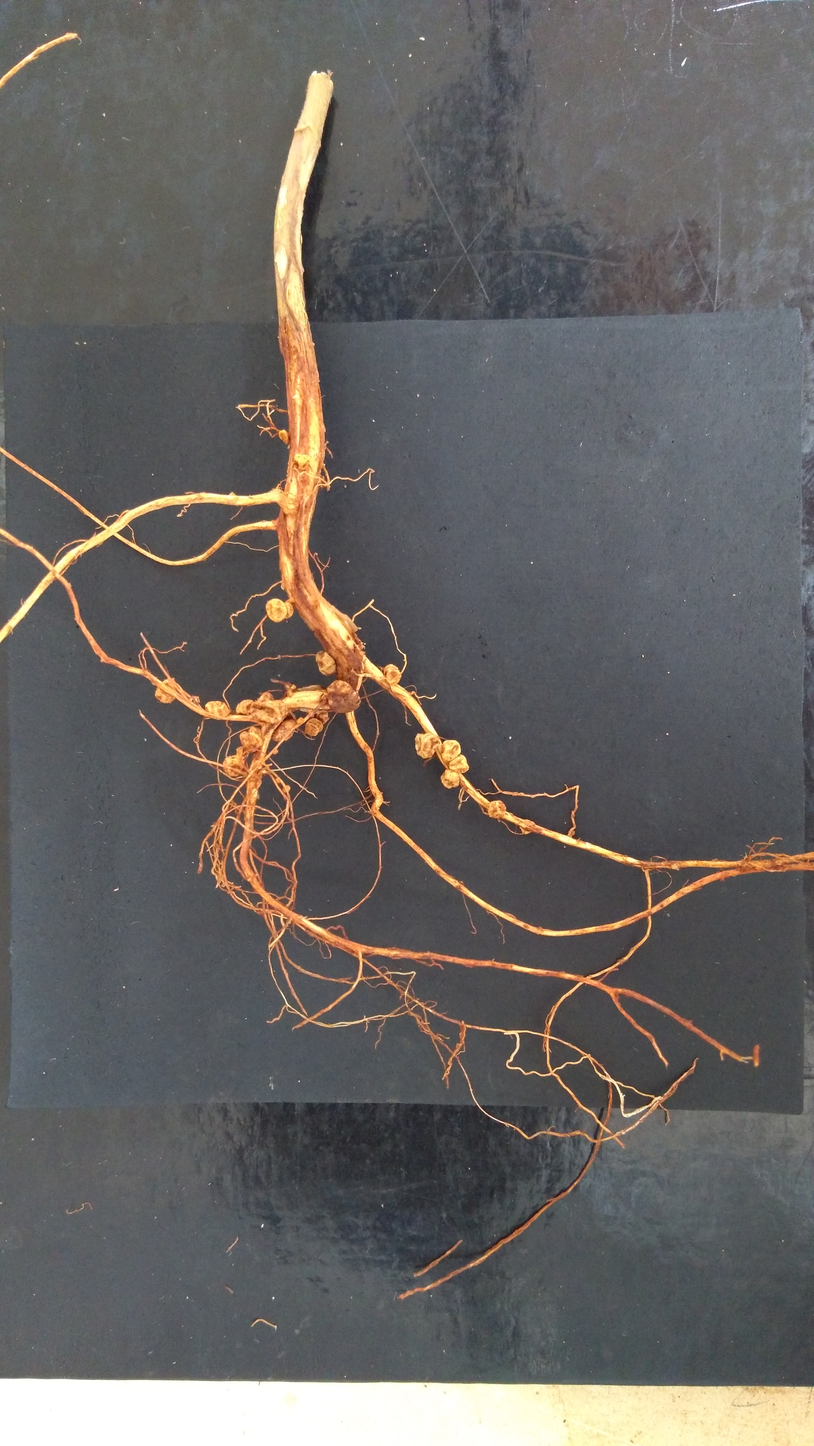nodule: (327, 680, 361, 712), (297, 684, 326, 713), (256, 700, 283, 724), (415, 733, 440, 758), (272, 719, 295, 742), (239, 731, 263, 753), (223, 755, 247, 777), (155, 679, 177, 703), (316, 650, 336, 676), (266, 598, 287, 622), (205, 701, 230, 719), (441, 740, 461, 761), (449, 754, 469, 774), (440, 769, 459, 789), (384, 664, 401, 685), (305, 718, 323, 736), (488, 800, 506, 818), (271, 700, 288, 718), (236, 699, 254, 714), (294, 454, 310, 470), (255, 760, 270, 776), (519, 819, 535, 834), (297, 471, 310, 488), (248, 726, 262, 740), (314, 711, 329, 724), (284, 682, 297, 697), (250, 701, 262, 717), (257, 691, 274, 702), (284, 602, 294, 619), (279, 429, 288, 444), (319, 475, 327, 487), (249, 788, 257, 797), (282, 785, 290, 793), (297, 717, 304, 723), (228, 492, 236, 496), (273, 749, 278, 755), (276, 778, 280, 784)
